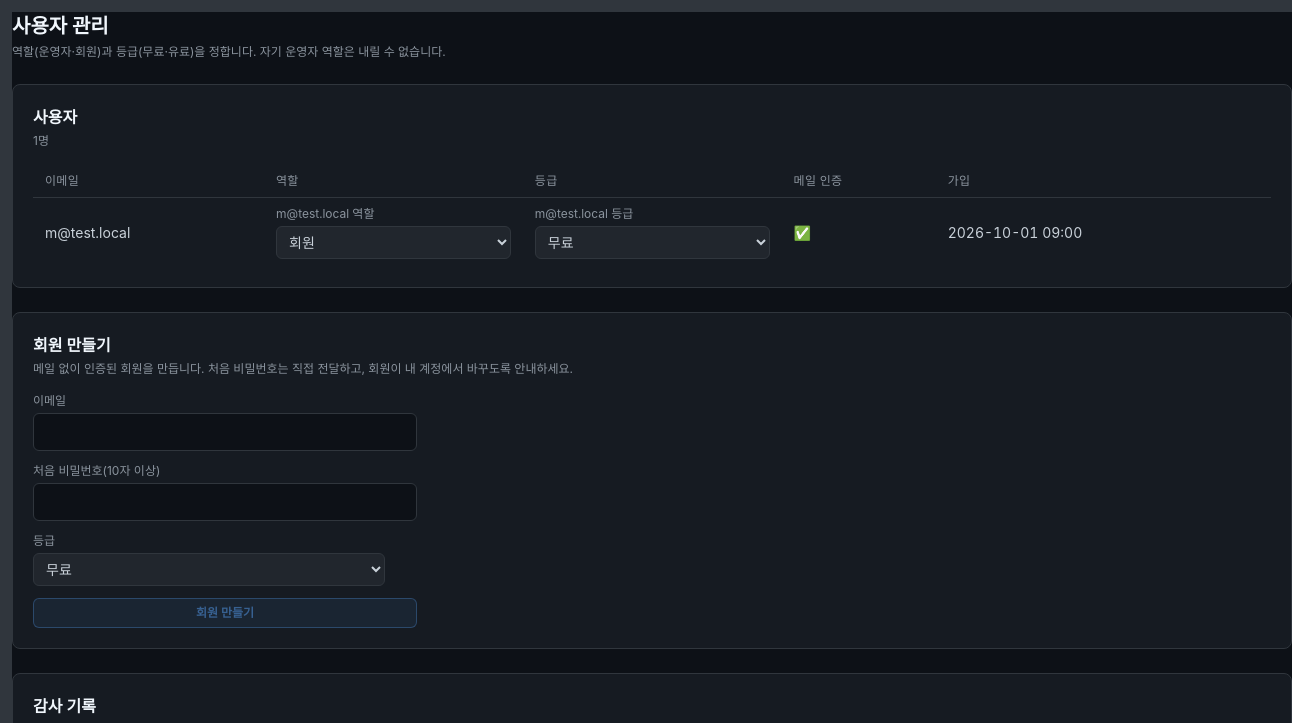
Test case: QA-051 › 사용자 관리: 저장하고 목록을 다시 읽는 동안에는 그 행의 선택 상자를 막는다
Select "운영자" in the dropdown labelled "m@test.local 역할" at (393, 242), box [276, 226, 511, 259]
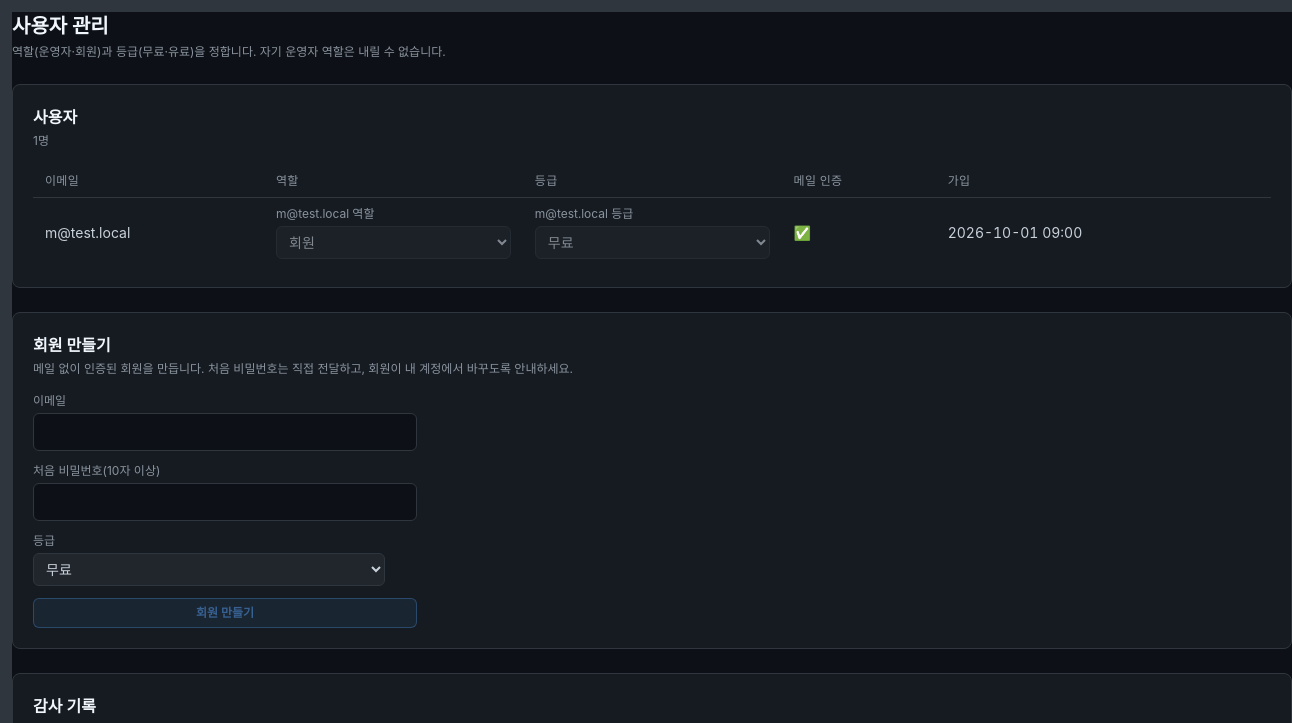
Check: the dropdown labelled "m@test.local 등급" is disabled, box [535, 226, 770, 259]
